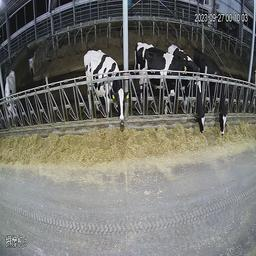cow: (80, 45, 129, 130), (135, 38, 202, 87), (205, 45, 229, 139), (186, 74, 208, 135), (5, 71, 23, 127)
